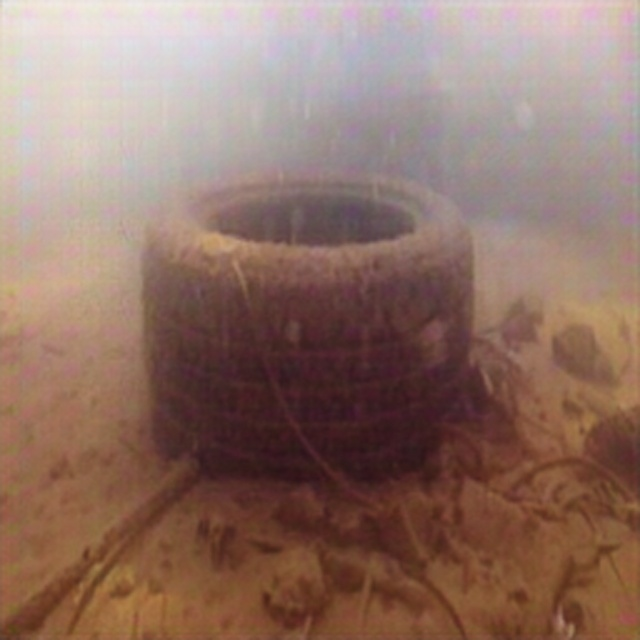mine: (141, 157, 477, 493)
